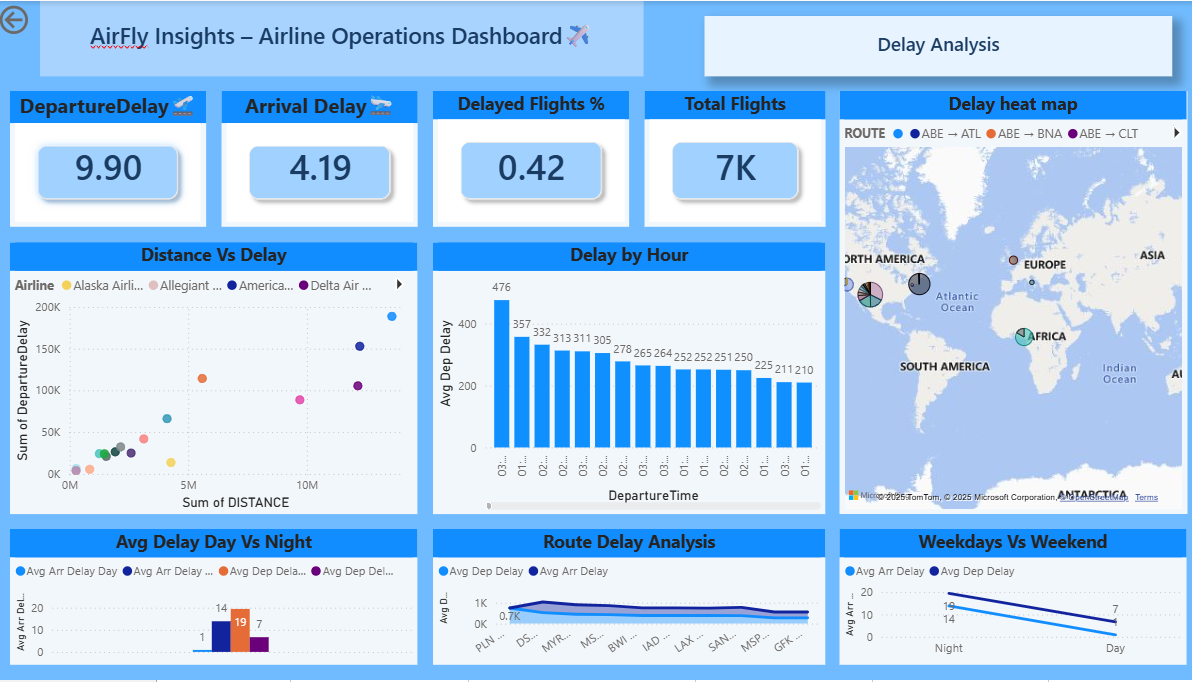

The page's visual inventory and layout, read from the dashboard file:
{"tool":"powerbi","page":{"name":"Delay Analysis","canvas":[1280,720],"ordinal":1},"visuals":[{"type":"textbox","box":[48,0,640,80],"z":0},{"type":"cardVisual","title":" DepartureDelay🛫","fields":{"Data":["data.Avg Dep Delay"]},"box":[16,96,208,144],"z":1000},{"type":"cardVisual","title":"Arrival Delay🛬","fields":{"Data":["data.avg arrival delay"]},"box":[240,96,208,144],"z":2000},{"type":"cardVisual","title":"Delayed Flights %","fields":{"Data":["data.Delayed Flights %"]},"box":[464,96,208,144],"z":3000},{"type":"clusteredColumnChart","title":"Delay by Hour","fields":{"Category":["data.DepartureTime"],"Y":["data.Avg Dep Delay"]},"box":[464,256,416,288],"z":4000},{"type":"lineChart","title":"Weekdays Vs Weekend ","fields":{"Category":["data.Day Type"],"Y":["data.Avg Arr Delay","data.Avg Dep Delay"]},"box":[896,560,368,144],"z":5000},{"type":"actionButton","box":[752,16,496,64],"z":6000},{"type":"actionButton","box":[0,0,100,40],"z":7000},{"type":"cardVisual","title":"Total Flights","fields":{"Data":["data.Total Flights"]},"box":[688,96,192,144],"z":8000},{"type":"clusteredColumnChart","title":"Avg Delay Day Vs Night","fields":{"Y":["data.Avg Arr Delay Day","data.Avg Arr Delay Night","data.Avg Dep Delay Night","data.Avg Dep Delay Day"]},"box":[16,560,432,144],"z":9000},{"type":"scatterChart","title":"Distance Vs Delay","fields":{"X":["Sum(data.DISTANCE)"],"Y":["Sum(data.DepartureDelay)"],"Series":["data.Airline"]},"box":[16,256,432,288],"z":10000},{"type":"stackedAreaChart","title":"Route Delay Analysis","fields":{"Category":["data.ROUTE"],"Y":["data.Avg Dep Delay","data.Avg Arr Delay"]},"box":[464,560,416,144],"z":11000},{"type":"map","title":"Delay heat map ","fields":{"Category":["data.ORIGIN"],"Series":["data.ROUTE"],"Size":["Sum(data.ArrivalDelay)"]},"box":[896,96,368,448],"z":12000}]}

Visuals, with their boxes in screenshot pixels (x1, y1, x2, y2), scaled from the page's 1280x720 canvas onto the 1192x682 screenshot:
textbox: 45/0/641/76
" DepartureDelay🛫" cardVisual: 15/91/209/227
"Arrival Delay🛬" cardVisual: 224/91/417/227
"Delayed Flights %" cardVisual: 432/91/626/227
"Delay by Hour" clusteredColumnChart: 432/242/820/515
"Weekdays Vs Weekend " lineChart: 834/530/1177/667
actionButton: 700/15/1162/76
actionButton: 0/0/93/38
"Total Flights" cardVisual: 641/91/820/227
"Avg Delay Day Vs Night" clusteredColumnChart: 15/530/417/667
"Distance Vs Delay" scatterChart: 15/242/417/515
"Route Delay Analysis" stackedAreaChart: 432/530/820/667
"Delay heat map " map: 834/91/1177/515
